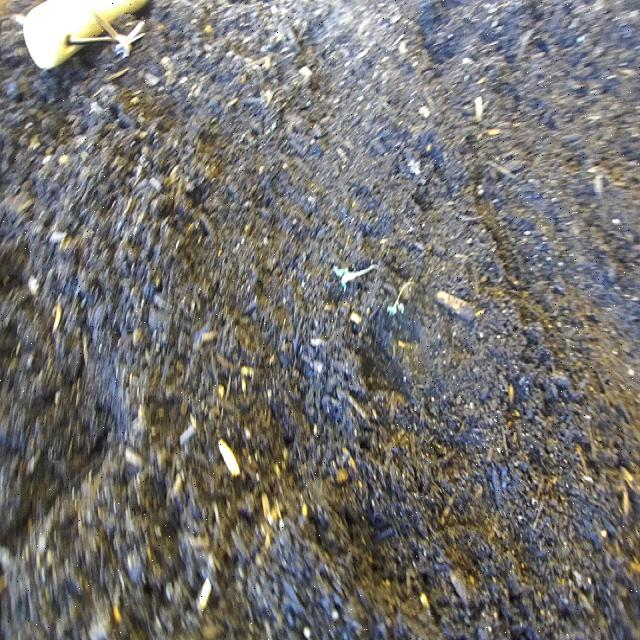Unhealthy: (330, 260, 381, 296), (383, 277, 418, 322)
